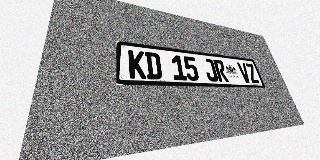1: (170, 54, 187, 80)
5: (183, 56, 200, 81)
D: (145, 52, 163, 80)
J: (202, 58, 219, 82)
K: (128, 50, 146, 79)
R: (213, 59, 229, 82)
V: (237, 62, 252, 83)
Z: (245, 63, 260, 83)
